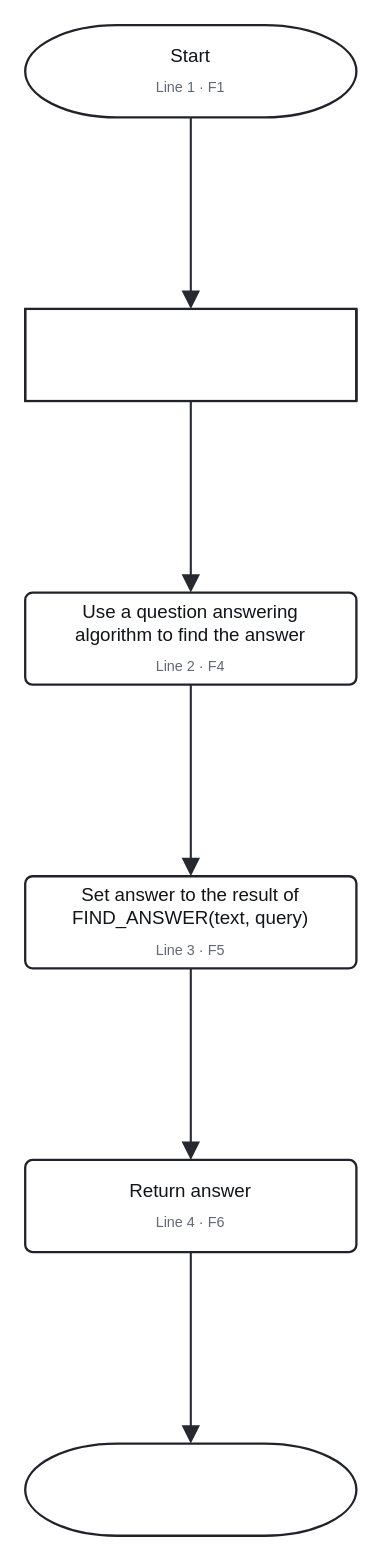
Image size: 383x1562. Some labels were removed from this diagram. Each missing label, with the box of its shape:
End Line 1 · F2: (23, 1442, 357, 1536)
Run function QUESTION_ANSWERING with text, query Line 1 · F3: (23, 307, 357, 401)
